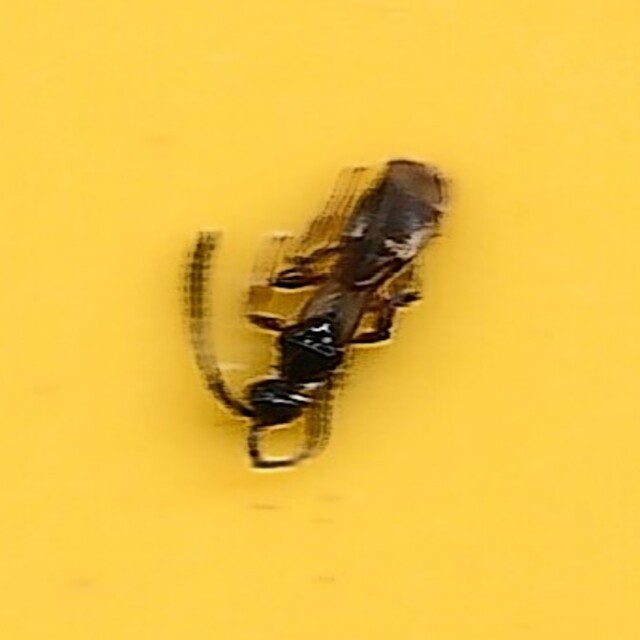Hymenoptera: (188, 151, 452, 489)
